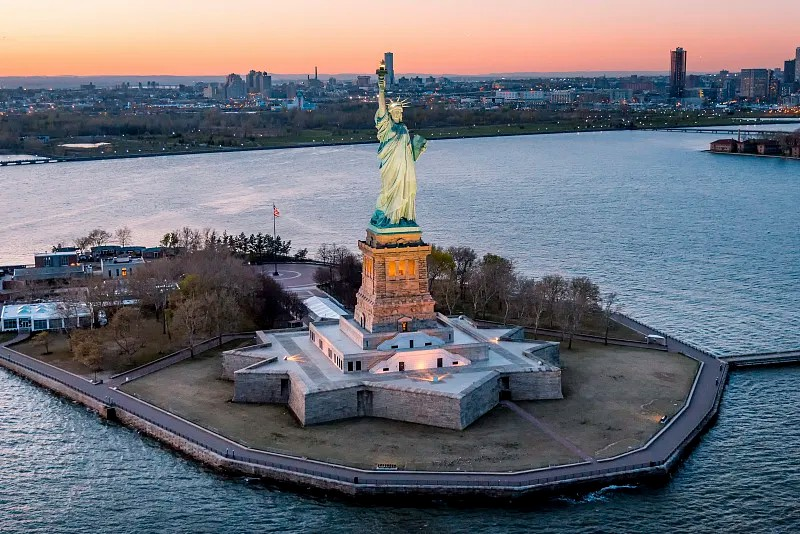SL: (354, 59, 437, 333)
